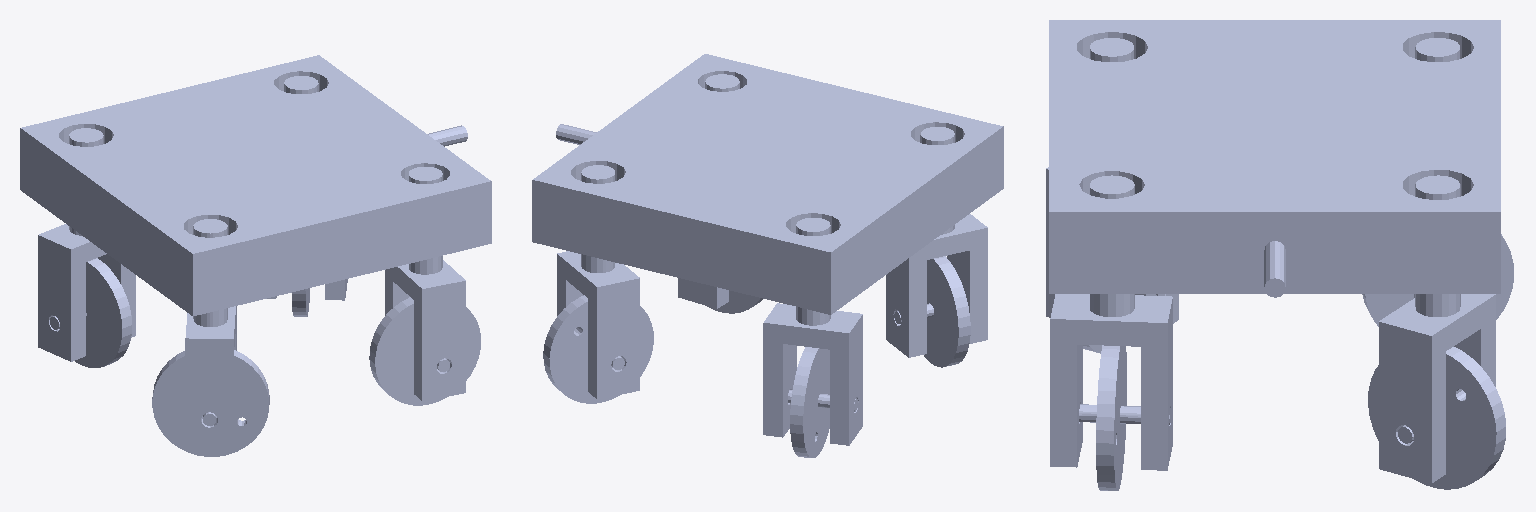
The robot description file, URDF, robot "robot_with_4_tyres_trail_2":
<robot
  name="robot_with_4_tyres_trail_2">
  <link
    name="base_link">
    <inertial>
      <origin
        xyz="0.18763 -0.46527 0.29444"
        rpy="0 0 0" />
      <mass
        value="23.121" />
      <inertia
        ixx="0"
        ixy="0"
        ixz="0"
        iyy="0"
        iyz="0"
        izz="0" />
    </inertial>
    <visual>
      <origin
        xyz="0 0 0"
        rpy="0 0 0" />
      <geometry>
        <mesh
          filename="package://robot_with_4_tyres_trail_2/meshes/base_link.STL" />
      </geometry>
      <material
        name="">
        <color
          rgba="0.79216 0.81961 0.93333 1" />
      </material>
    </visual>
    <collision>
      <origin
        xyz="0 0 0"
        rpy="0 0 0" />
      <geometry>
        <mesh
          filename="package://robot_with_4_tyres_trail_2/meshes/base_link.STL" />
      </geometry>
    </collision>
  </link>
  <link
    name="bracket_1">
    <inertial>
      <origin
        xyz="-0.00041116 0.00046262 0.14205"
        rpy="0 0 0" />
      <mass
        value="1.1681" />
      <inertia
        ixx="0"
        ixy="0"
        ixz="0"
        iyy="0"
        iyz="0"
        izz="0" />
    </inertial>
    <visual>
      <origin
        xyz="0 0 0"
        rpy="0 0 0" />
      <geometry>
        <mesh
          filename="package://robot_with_4_tyres_trail_2/meshes/bracket_1.STL" />
      </geometry>
      <material
        name="">
        <color
          rgba="0.79216 0.81961 0.93333 1" />
      </material>
    </visual>
    <collision>
      <origin
        xyz="0 0 0"
        rpy="0 0 0" />
      <geometry>
        <mesh
          filename="package://robot_with_4_tyres_trail_2/meshes/bracket_1.STL" />
      </geometry>
    </collision>
  </link>
  <joint
    name="chassis_to_bracket_1"
    type="continuous">
    <origin
      xyz="0.36638 -0.28458 0.014431"
      rpy="5.126E-17 -1.3998E-16 2.5629" />
    <parent
      link="base_link" />
    <child
      link="bracket_1" />
    <axis
      xyz="0 0 1" />
  </joint>
  <link
    name="tyre_1">
    <inertial>
      <origin
        xyz="-0.00051614 0.00076562 0.00054978"
        rpy="0 0 0" />
      <mass
        value="0.48511" />
      <inertia
        ixx="0"
        ixy="0"
        ixz="0"
        iyy="0"
        iyz="0"
        izz="0" />
    </inertial>
    <visual>
      <origin
        xyz="0 0 0"
        rpy="0 0 0" />
      <geometry>
        <mesh
          filename="package://robot_with_4_tyres_trail_2/meshes/tyre_1.STL" />
      </geometry>
      <material
        name="">
        <color
          rgba="0.79216 0.81961 0.93333 1" />
      </material>
    </visual>
    <collision>
      <origin
        xyz="0 0 0"
        rpy="0 0 0" />
      <geometry>
        <mesh
          filename="package://robot_with_4_tyres_trail_2/meshes/tyre_1.STL" />
      </geometry>
    </collision>
  </link>
  <joint
    name="bracket_1_to_tyre_1"
    type="continuous">
    <origin
      xyz="0 0 0.05"
      rpy="1.5708 -1.2666 -1.5708" />
    <parent
      link="bracket_1" />
    <child
      link="tyre_1" />
    <axis
      xyz="0 0 1" />
  </joint>
  <link
    name="bracket_2">
    <inertial>
      <origin
        xyz="-0.00041116 0.00046262 0.14205"
        rpy="0 0 0" />
      <mass
        value="1.1681" />
      <inertia
        ixx="0"
        ixy="0"
        ixz="0"
        iyy="0"
        iyz="0"
        izz="0" />
    </inertial>
    <visual>
      <origin
        xyz="0 0 0"
        rpy="0 0 0" />
      <geometry>
        <mesh
          filename="package://robot_with_4_tyres_trail_2/meshes/bracket_2.STL" />
      </geometry>
      <material
        name="">
        <color
          rgba="0.79216 0.81961 0.93333 1" />
      </material>
    </visual>
    <collision>
      <origin
        xyz="0 0 0"
        rpy="0 0 0" />
      <geometry>
        <mesh
          filename="package://robot_with_4_tyres_trail_2/meshes/bracket_2.STL" />
      </geometry>
    </collision>
  </link>
  <joint
    name="chassis_to_bracket_2"
    type="continuous">
    <origin
      xyz="0.36638 -0.64458 0.014431"
      rpy="1.1097E-14 -1.1041E-14 1.4838" />
    <parent
      link="base_link" />
    <child
      link="bracket_2" />
    <axis
      xyz="0 0 1" />
  </joint>
  <link
    name="tyre_2">
    <inertial>
      <origin
        xyz="-0.00090127 0.00041481 0.00054978"
        rpy="0 0 0" />
      <mass
        value="0.48511" />
      <inertia
        ixx="0"
        ixy="0"
        ixz="0"
        iyy="0"
        iyz="0"
        izz="0" />
    </inertial>
    <visual>
      <origin
        xyz="0 0 0"
        rpy="0 0 0" />
      <geometry>
        <mesh
          filename="package://robot_with_4_tyres_trail_2/meshes/tyre_2.STL" />
      </geometry>
      <material
        name="">
        <color
          rgba="0.79216 0.81961 0.93333 1" />
      </material>
    </visual>
    <collision>
      <origin
        xyz="0 0 0"
        rpy="0 0 0" />
      <geometry>
        <mesh
          filename="package://robot_with_4_tyres_trail_2/meshes/tyre_2.STL" />
      </geometry>
    </collision>
  </link>
  <joint
    name="bracket_2_to_tyre_2"
    type="continuous">
    <origin
      xyz="0 0 0.05"
      rpy="1.5708 -0.39736 -1.5708" />
    <parent
      link="bracket_2" />
    <child
      link="tyre_2" />
    <axis
      xyz="0 0 1" />
  </joint>
  <link
    name="bracket_3">
    <inertial>
      <origin
        xyz="-0.000411157905102433 0.000462615518899479 0.142051256124478"
        rpy="0 0 0" />
      <mass
        value="1.16807188014664" />
      <inertia
        ixx="0"
        ixy="0"
        ixz="0"
        iyy="0"
        iyz="0"
        izz="0" />
    </inertial>
    <visual>
      <origin
        xyz="0 0 0"
        rpy="0 0 0" />
      <geometry>
        <mesh
          filename="package://robot_with_4_tyres_trail_2/meshes/bracket_3.STL" />
      </geometry>
      <material
        name="">
        <color
          rgba="0.792156862745098 0.819607843137255 0.933333333333333 1" />
      </material>
    </visual>
    <collision>
      <origin
        xyz="0 0 0"
        rpy="0 0 0" />
      <geometry>
        <mesh
          filename="package://robot_with_4_tyres_trail_2/meshes/bracket_3.STL" />
      </geometry>
    </collision>
  </link>
  <joint
    name="chassis_to_bracket_3"
    type="continuous">
    <origin
      xyz="0.006375 -0.28458 0.014431"
      rpy="-1.1394E-16 -1.8781E-16 -2.9053" />
    <parent
      link="base_link" />
    <child
      link="bracket_3" />
    <axis
      xyz="0 0 1" />
  </joint>
  <link
    name="tyre_3">
    <inertial>
      <origin
        xyz="-0.000793116796545645 -0.000235661380051183 0.000549783439807557"
        rpy="0 0 0" />
      <mass
        value="0.485110668682482" />
      <inertia
        ixx="0"
        ixy="0"
        ixz="0"
        iyy="0"
        iyz="0"
        izz="0" />
    </inertial>
    <visual>
      <origin
        xyz="0 0 0"
        rpy="0 0 0" />
      <geometry>
        <mesh
          filename="package://robot_with_4_tyres_trail_2/meshes/tyre_3.STL" />
      </geometry>
      <material
        name="">
        <color
          rgba="0.792156862745098 0.819607843137255 0.933333333333333 1" />
      </material>
    </visual>
    <collision>
      <origin
        xyz="0 0 0"
        rpy="0 0 0" />
      <geometry>
        <mesh
          filename="package://robot_with_4_tyres_trail_2/meshes/tyre_3.STL" />
      </geometry>
    </collision>
  </link>
  <joint
    name="bracket_3_to_tyre_3"
    type="continuous">
    <origin
      xyz="0 0 0.05"
      rpy="1.5708 0.72689 -1.5708" />
    <parent
      link="bracket_3" />
    <child
      link="tyre_3" />
    <axis
      xyz="0 0 1" />
  </joint>
  <link
    name="bracket_4">
    <inertial>
      <origin
        xyz="-0.000411157905102488 0.000462615518899367 0.142051256124478"
        rpy="0 0 0" />
      <mass
        value="1.16807188014664" />
      <inertia
        ixx="0"
        ixy="0"
        ixz="0"
        iyy="0"
        iyz="0"
        izz="0" />
    </inertial>
    <visual>
      <origin
        xyz="0 0 0"
        rpy="0 0 0" />
      <geometry>
        <mesh
          filename="package://robot_with_4_tyres_trail_2/meshes/bracket_4.STL" />
      </geometry>
      <material
        name="">
        <color
          rgba="0.792156862745098 0.819607843137255 0.933333333333333 1" />
      </material>
    </visual>
    <collision>
      <origin
        xyz="0 0 0"
        rpy="0 0 0" />
      <geometry>
        <mesh
          filename="package://robot_with_4_tyres_trail_2/meshes/bracket_4.STL" />
      </geometry>
    </collision>
  </link>
  <joint
    name="chassis_to_bracket_4"
    type="continuous">
    <origin
      xyz="0.006375 -0.64458 0.014431"
      rpy="-1.4123E-16 -5.2055E-17 -2.1253" />
    <parent
      link="base_link" />
    <child
      link="bracket_4" />
    <axis
      xyz="0 0 1" />
  </joint>
  <link
    name="tyre_4">
    <inertial>
      <origin
        xyz="0.000300266985877651 0.000197291449146639 -0.000549783439807605"
        rpy="0 0 0" />
      <mass
        value="0.485110668682483" />
      <inertia
        ixx="0"
        ixy="0"
        ixz="0"
        iyy="0"
        iyz="0"
        izz="0" />
    </inertial>
    <visual>
      <origin
        xyz="0 0 0"
        rpy="0 0 0" />
      <geometry>
        <mesh
          filename="package://robot_with_4_tyres_trail_2/meshes/tyre_4.STL" />
      </geometry>
      <material
        name="">
        <color
          rgba="0.792156862745098 0.819607843137255 0.933333333333333 1" />
      </material>
    </visual>
    <collision>
      <origin
        xyz="0 0 0"
        rpy="0 0 0" />
      <geometry>
        <mesh
          filename="package://robot_with_4_tyres_trail_2/meshes/tyre_4.STL" />
      </geometry>
    </collision>
  </link>
  <joint
    name="bracket_4_to_tyre_4"
    type="continuous">
    <origin
      xyz="0 0 0.05"
      rpy="1.5708 -1.7347E-16 1.5708" />
    <parent
      link="bracket_4" />
    <child
      link="tyre_4" />
    <axis
      xyz="0 0 1" />
  </joint>
</robot>

--- Facts derived from the render (not from the file) ---
The picture shows the robot from 3 angles, left to right: view 1: azimuth 30°, elevation 25°; view 2: azimuth 150°, elevation 25°; view 3: azimuth 270°, elevation 25°; orthographic projection.
Robot: robot_with_4_tyres_trail_2 — 9 links, 8 joints (8 continuous); root link base_link; default pose: every joint at zero.
Visible links, largest first — view 1: base_link, bracket_2, bracket_3, bracket_4, tyre_4, tyre_2, tyre_3, bracket_1; view 2: base_link, bracket_3, bracket_1, bracket_4, tyre_1, tyre_4, tyre_3, bracket_2, tyre_2; view 3: base_link, bracket_1, bracket_2, tyre_1, tyre_2, tyre_3, bracket_4, bracket_3.
Link boxes in pixels (box(x1,y1,x2,y2)): base_link: box(20, 55, 491, 315); bracket_2: box(385, 167, 465, 401); bracket_3: box(38, 128, 135, 361); bracket_4: box(185, 219, 236, 451); tyre_4: box(152, 350, 269, 456); tyre_2: box(369, 297, 480, 405); tyre_3: box(50, 258, 131, 367); bracket_1: box(267, 76, 347, 300); base_link: box(532, 54, 1003, 314); bracket_3: box(763, 218, 862, 445); bracket_1: box(557, 165, 639, 399); bracket_4: box(886, 127, 987, 357); tyre_1: box(543, 295, 653, 403); tyre_4: box(894, 256, 970, 367); tyre_3: box(788, 347, 857, 457); bracket_2: box(678, 74, 739, 308); tyre_2: box(707, 290, 762, 313); base_link: box(1049, 20, 1500, 297); bracket_1: box(1379, 175, 1495, 483); bracket_2: box(1050, 175, 1172, 470); tyre_1: box(1368, 347, 1505, 489); tyre_2: box(1079, 345, 1170, 490); tyre_3: box(1362, 234, 1513, 326); bracket_4: box(1046, 38, 1178, 323); bracket_3: box(1414, 38, 1459, 297).
Size in the robot's own frame: 0.6045 by 0.518 by 0.365 metres.
Meshes: 9 distinct files referenced, 9 mesh visuals loaded (9 binary STL).